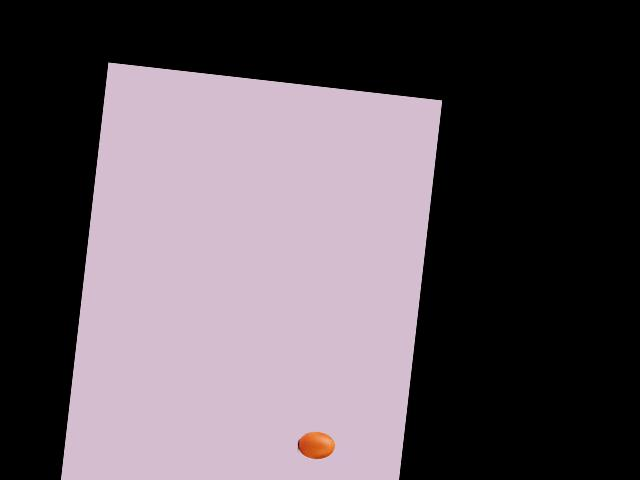egg: (296, 430, 336, 461)
